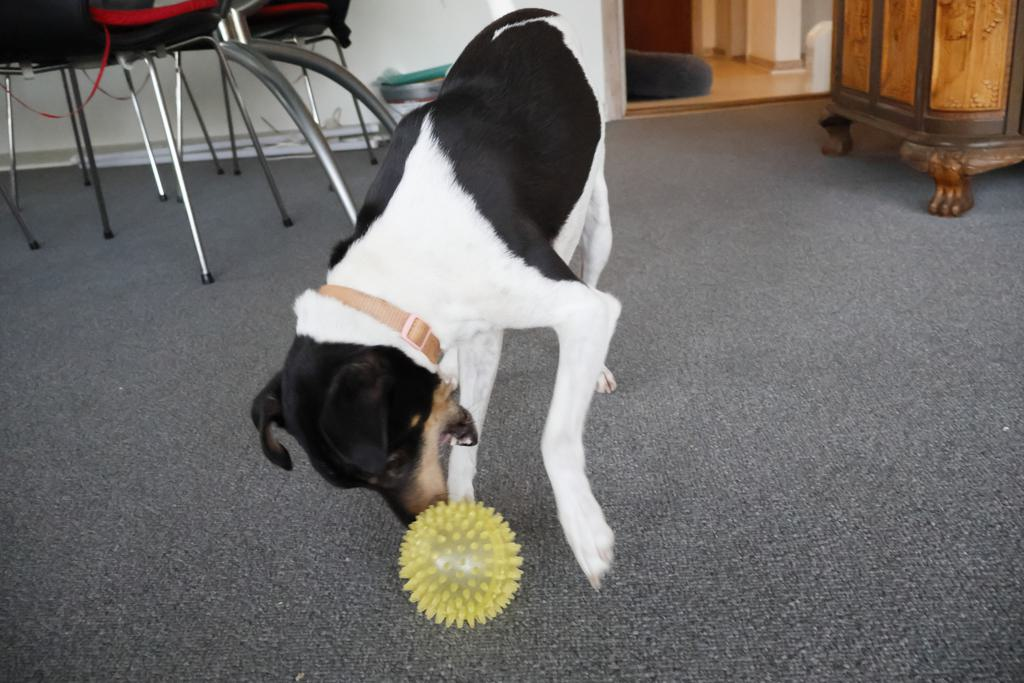Dog: (245, 0, 665, 597)
